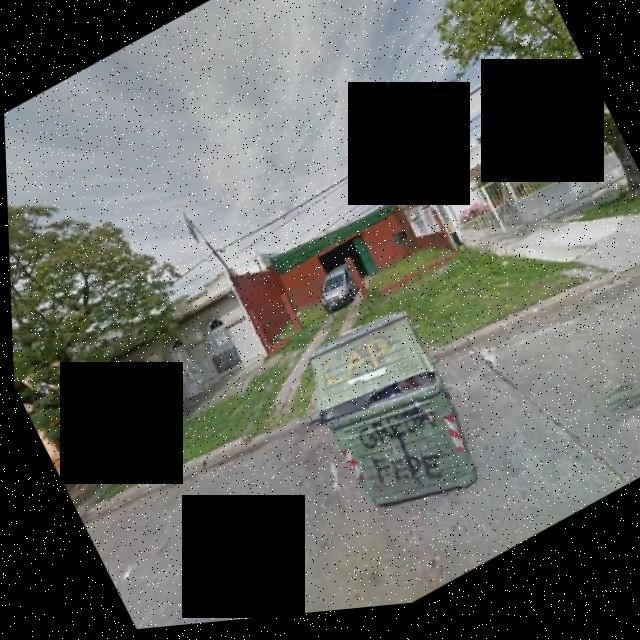bin: (277, 292, 502, 564)
